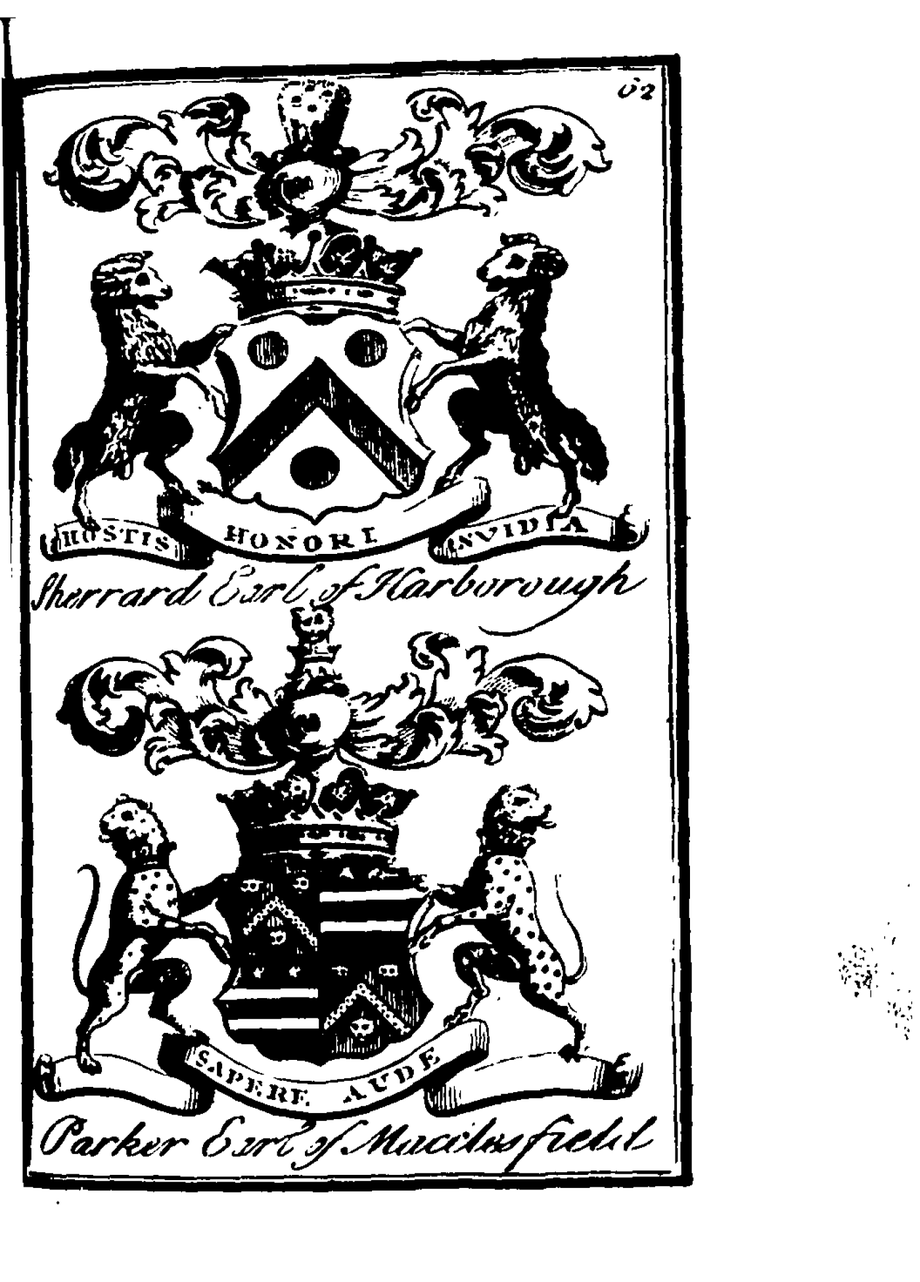coat_of_arms: (37, 612, 658, 1162), (32, 97, 644, 613)
